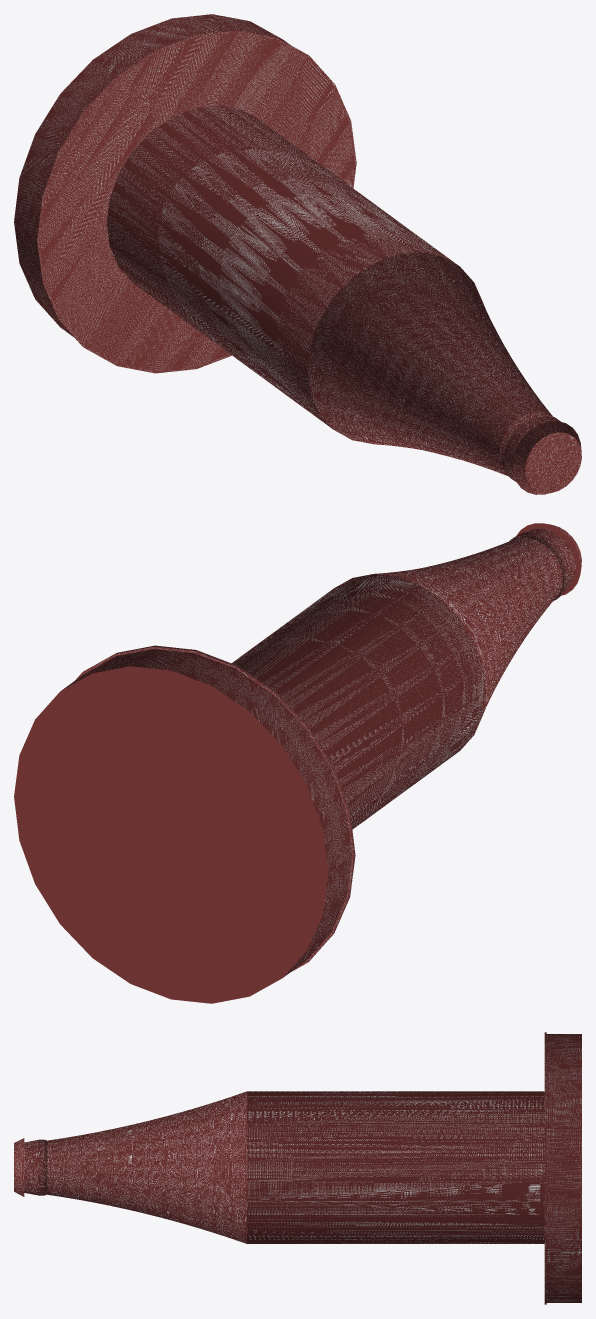
Rendered from model_scale.obj.
The picture shows the model from 3 angles, top to bottom: view 1: azimuth 30°, elevation 25°; view 2: azimuth 150°, elevation 25°; view 3: azimuth 270°, elevation 25°; orthographic projection. The views are drawn at different scales.
Parts seen in each view (by area): view 1: mesh1_mesh1-geometry, mesh2_mesh2-geometry, mesh3_mesh3-geometry; view 2: mesh2_mesh2-geometry, mesh1_mesh1-geometry, mesh3_mesh3-geometry; view 3: mesh1_mesh1-geometry, mesh2_mesh2-geometry, mesh3_mesh3-geometry.
Part boxes in pixels (<box>): mesh1_mesh1-geometry: <box>106,105,560,481</box>; mesh2_mesh2-geometry: <box>14,14,356,373</box>; mesh3_mesh3-geometry: <box>512,421,581,494</box>; mesh2_mesh2-geometry: <box>14,645,355,1003</box>; mesh1_mesh1-geometry: <box>231,528,575,829</box>; mesh3_mesh3-geometry: <box>516,523,581,595</box>; mesh1_mesh1-geometry: <box>24,1091,544,1243</box>; mesh2_mesh2-geometry: <box>544,1032,581,1304</box>; mesh3_mesh3-geometry: <box>14,1138,24,1196</box>.
Bounding box in the file's own units: 0.0587 × 0.0587 × 0.122.
